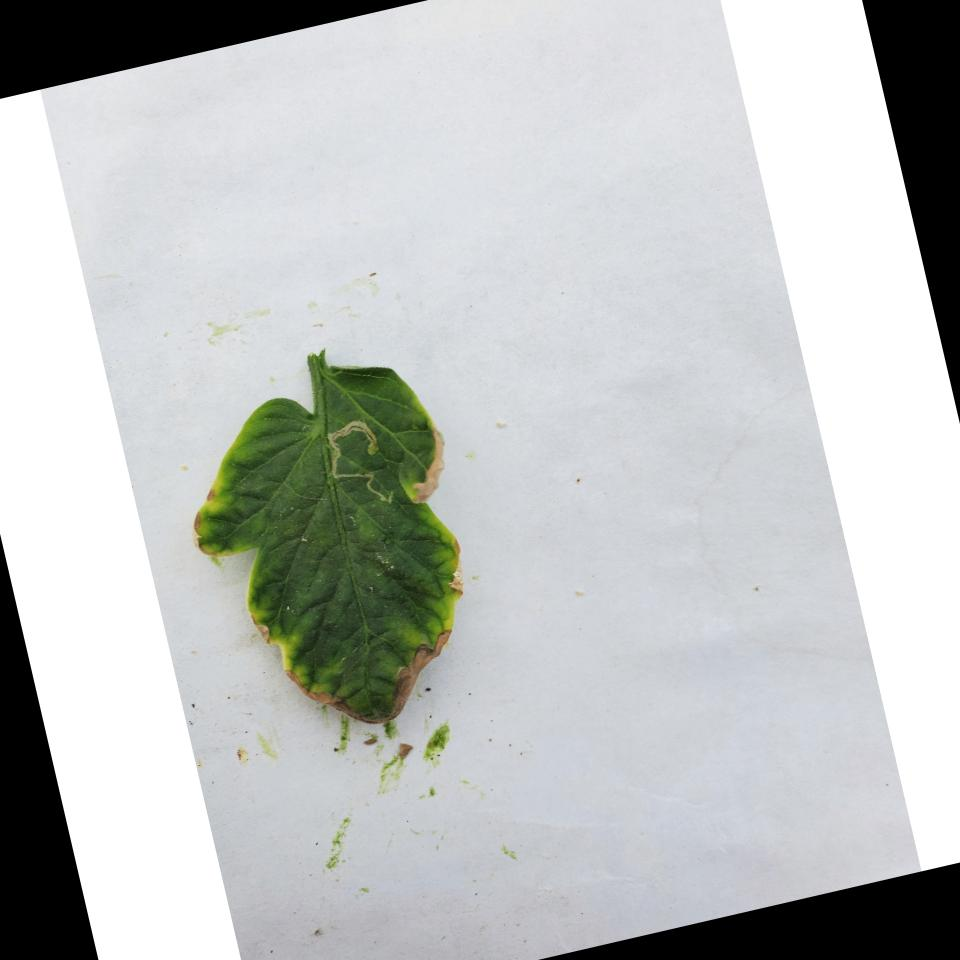tomato_bacterial_blight: (192, 352, 478, 742)
